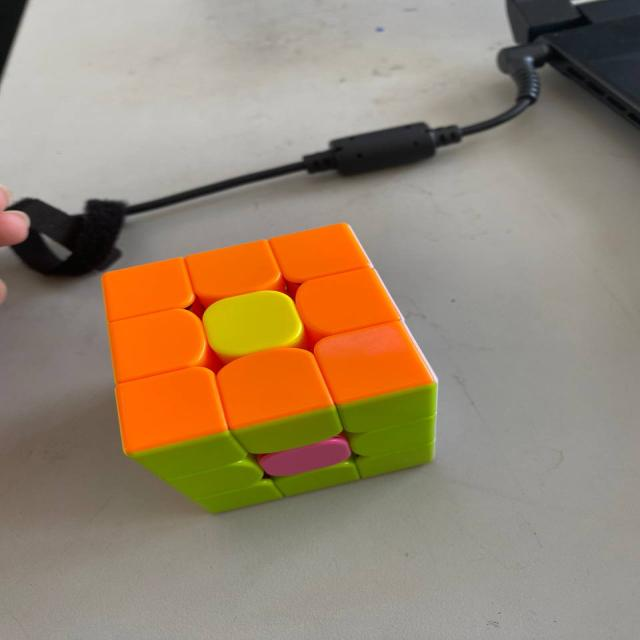Cube-3x3: (41, 259, 480, 466)
